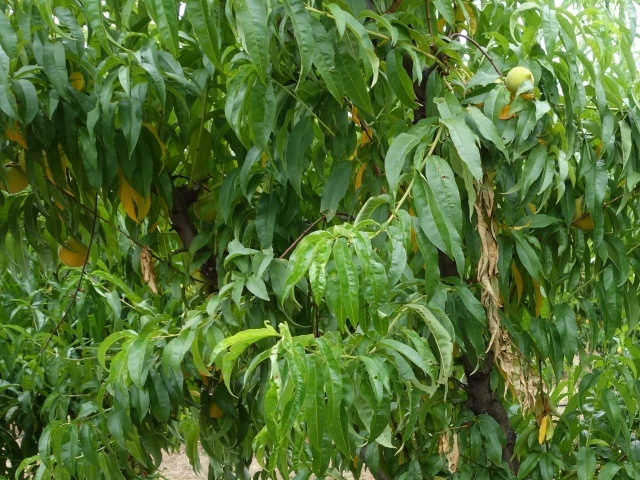peach: (56, 238, 93, 273), (503, 63, 536, 97), (1, 159, 30, 194)
